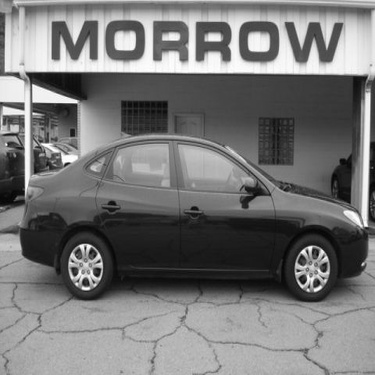car: (10, 128, 367, 301), (330, 135, 372, 223), (1, 135, 46, 185), (1, 153, 30, 202), (41, 136, 79, 169), (37, 143, 65, 176)
